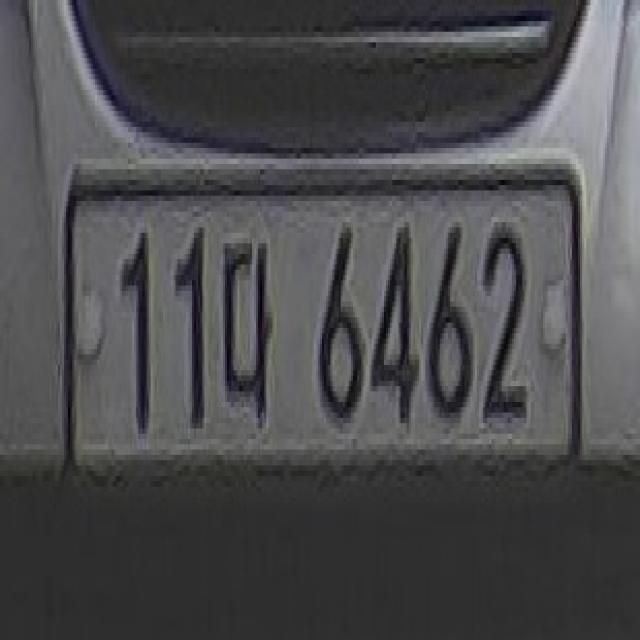1: (174, 214, 214, 436), (119, 225, 158, 438)
2: (484, 215, 538, 430)
4: (370, 217, 420, 435)
6: (423, 211, 476, 434), (314, 219, 366, 436)
da: (223, 226, 283, 438)
license_plate: (54, 164, 584, 476)
